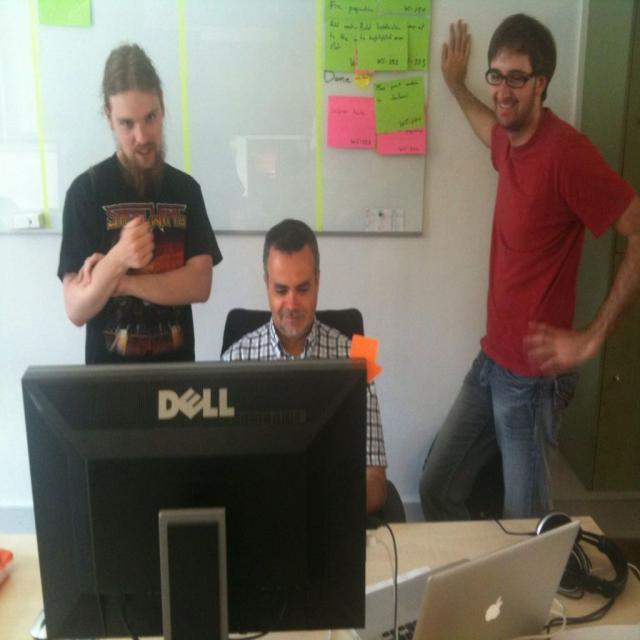desk: (0, 516, 639, 639)
laptop: (412, 519, 582, 640)
person: (429, 12, 639, 520), (222, 221, 404, 526), (57, 41, 224, 366)
tv: (20, 362, 371, 638)
